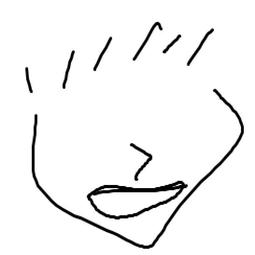open_mouth: (85, 179, 190, 223)
pointy_nose: (122, 134, 157, 184)
